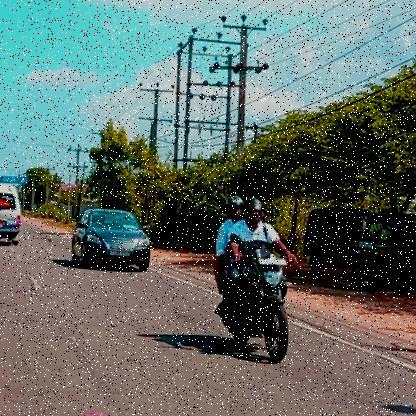motorcycle: (211, 254, 302, 368)
